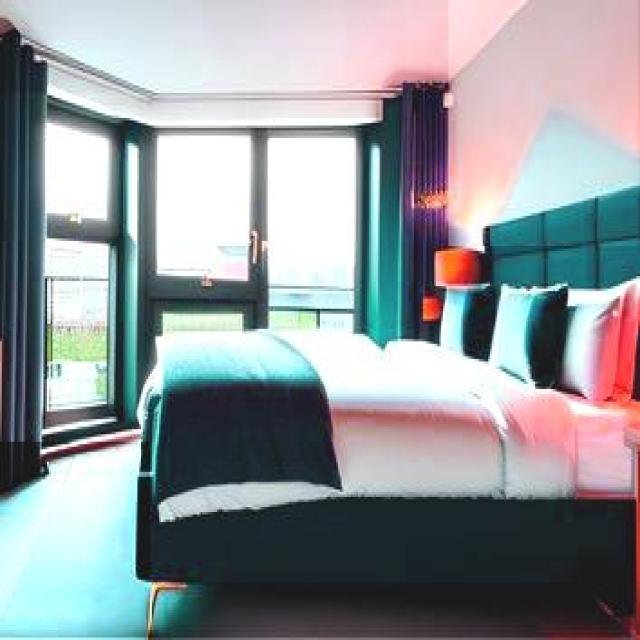Wall: (0, 1, 526, 93), (450, 0, 638, 246), (0, 442, 150, 637), (154, 584, 631, 637)
